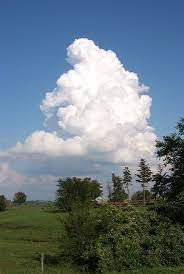Cumulus: (6, 23, 165, 178)
